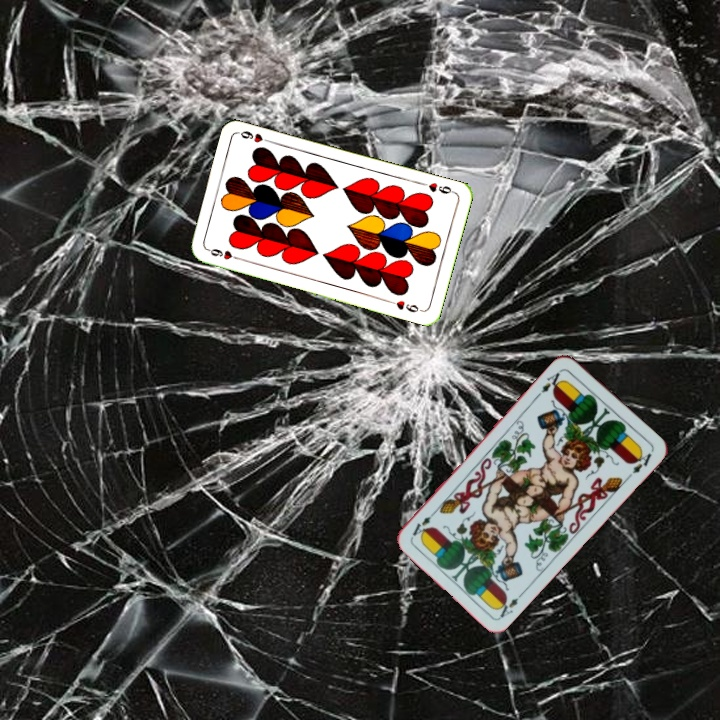EA: (533, 365, 566, 399), (493, 587, 527, 620)
H9: (417, 178, 457, 196), (204, 244, 243, 262)
